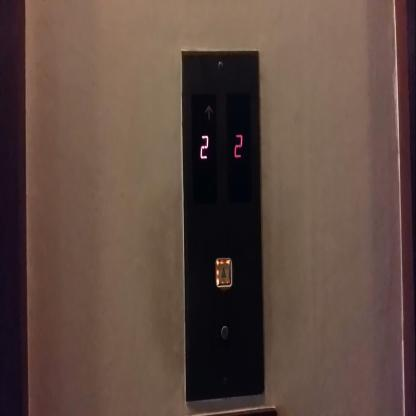blur: (220, 324, 229, 341)
led: (224, 92, 249, 205), (191, 91, 215, 201)
up: (215, 255, 232, 288)
